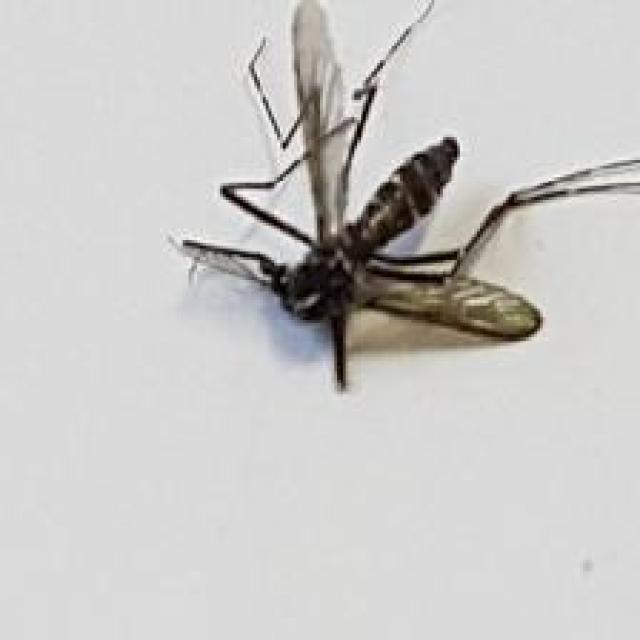Aedes albopictus: (165, 0, 640, 394)
